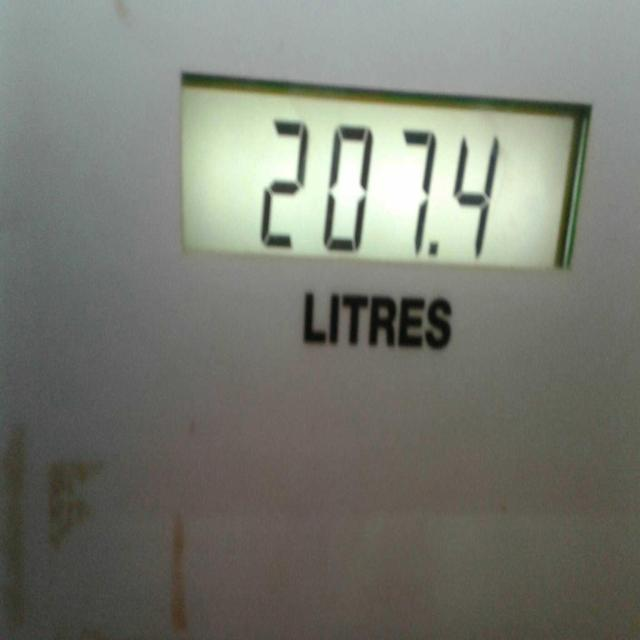.: (427, 234, 445, 268)
0: (322, 110, 379, 263)
2: (255, 107, 314, 253)
4: (452, 124, 504, 265)
7: (388, 113, 444, 270)
